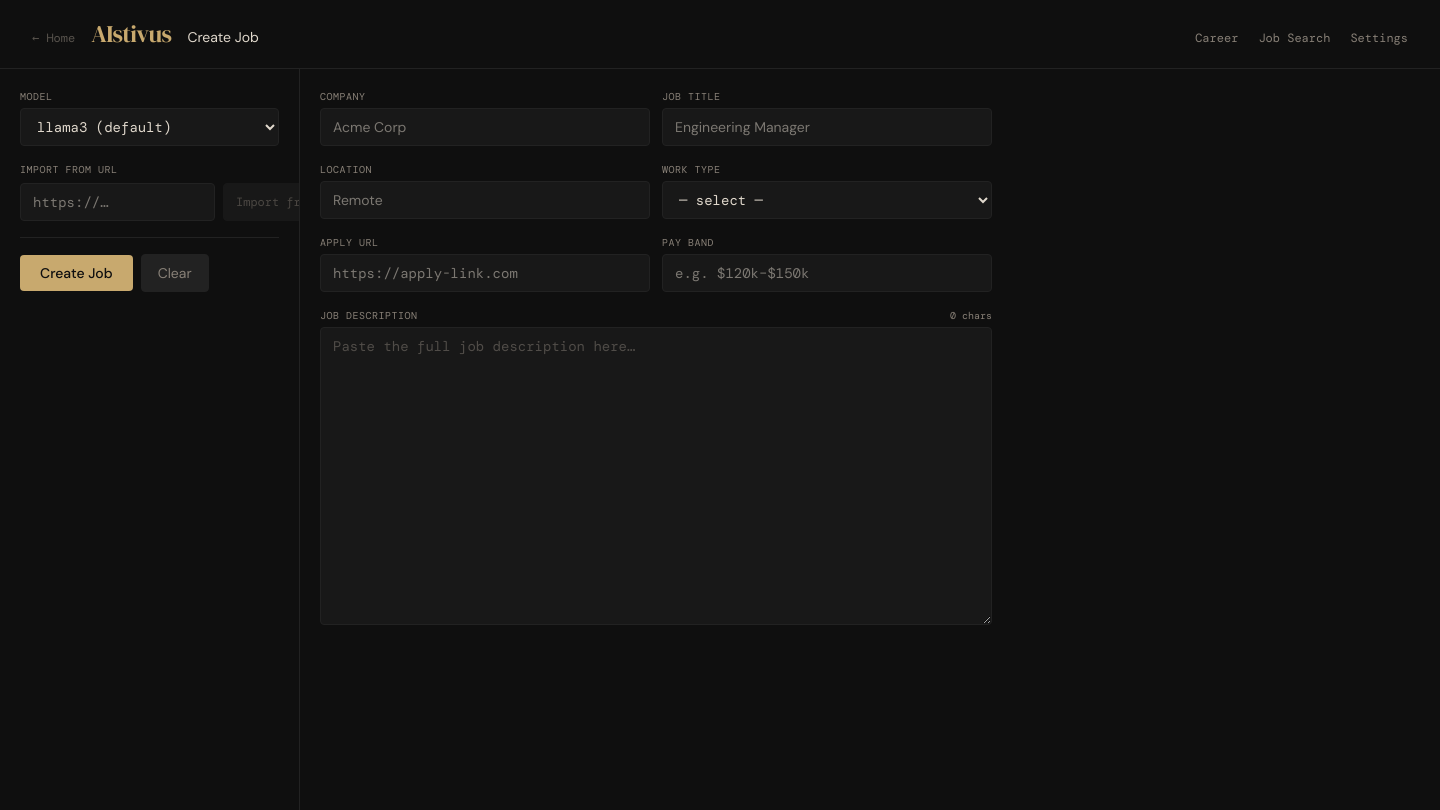
CreateJob › shows error when Create Job clicked without title
Type "Test Co" into the field with placeholder "Acme Corp" at (485, 127), box [320,108,650,146]
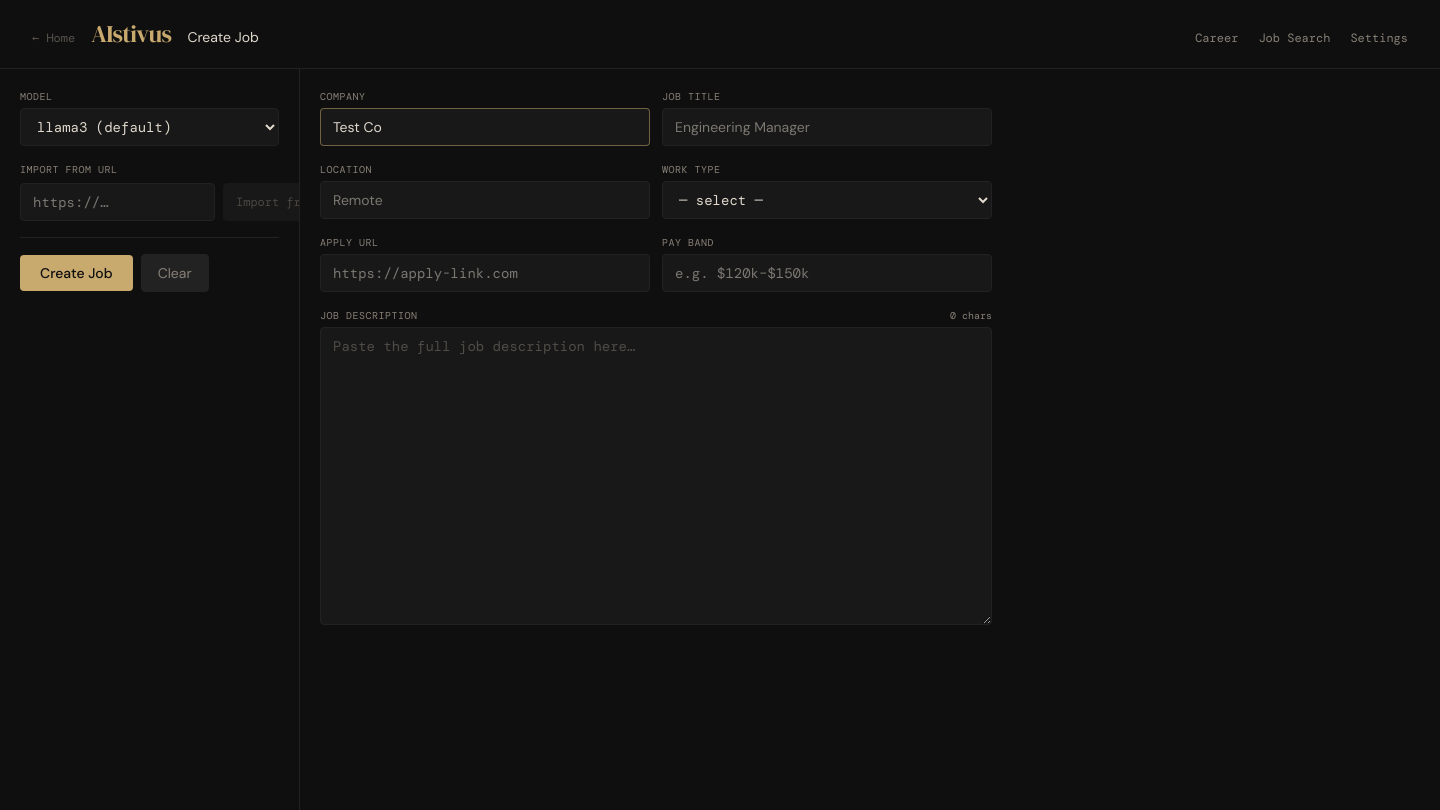
Click the button "Create Job" at (76, 273), box [20,255,133,291]
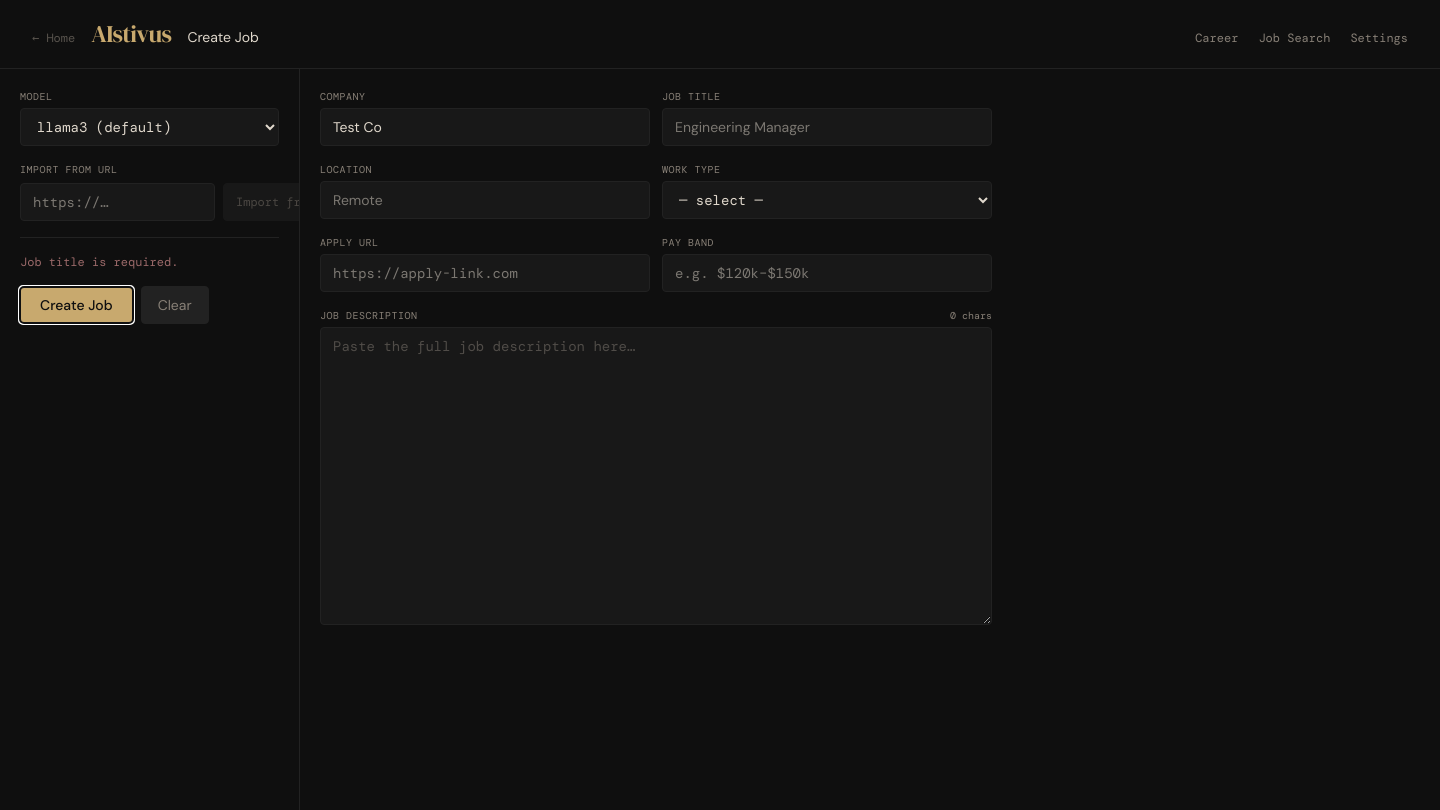
Now the text "Job title is required." is shown, box [20,254,178,270]
